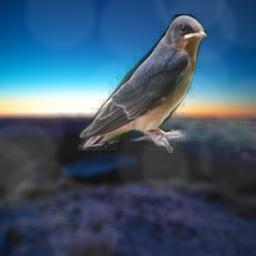Swallow: (78, 14, 208, 153)
